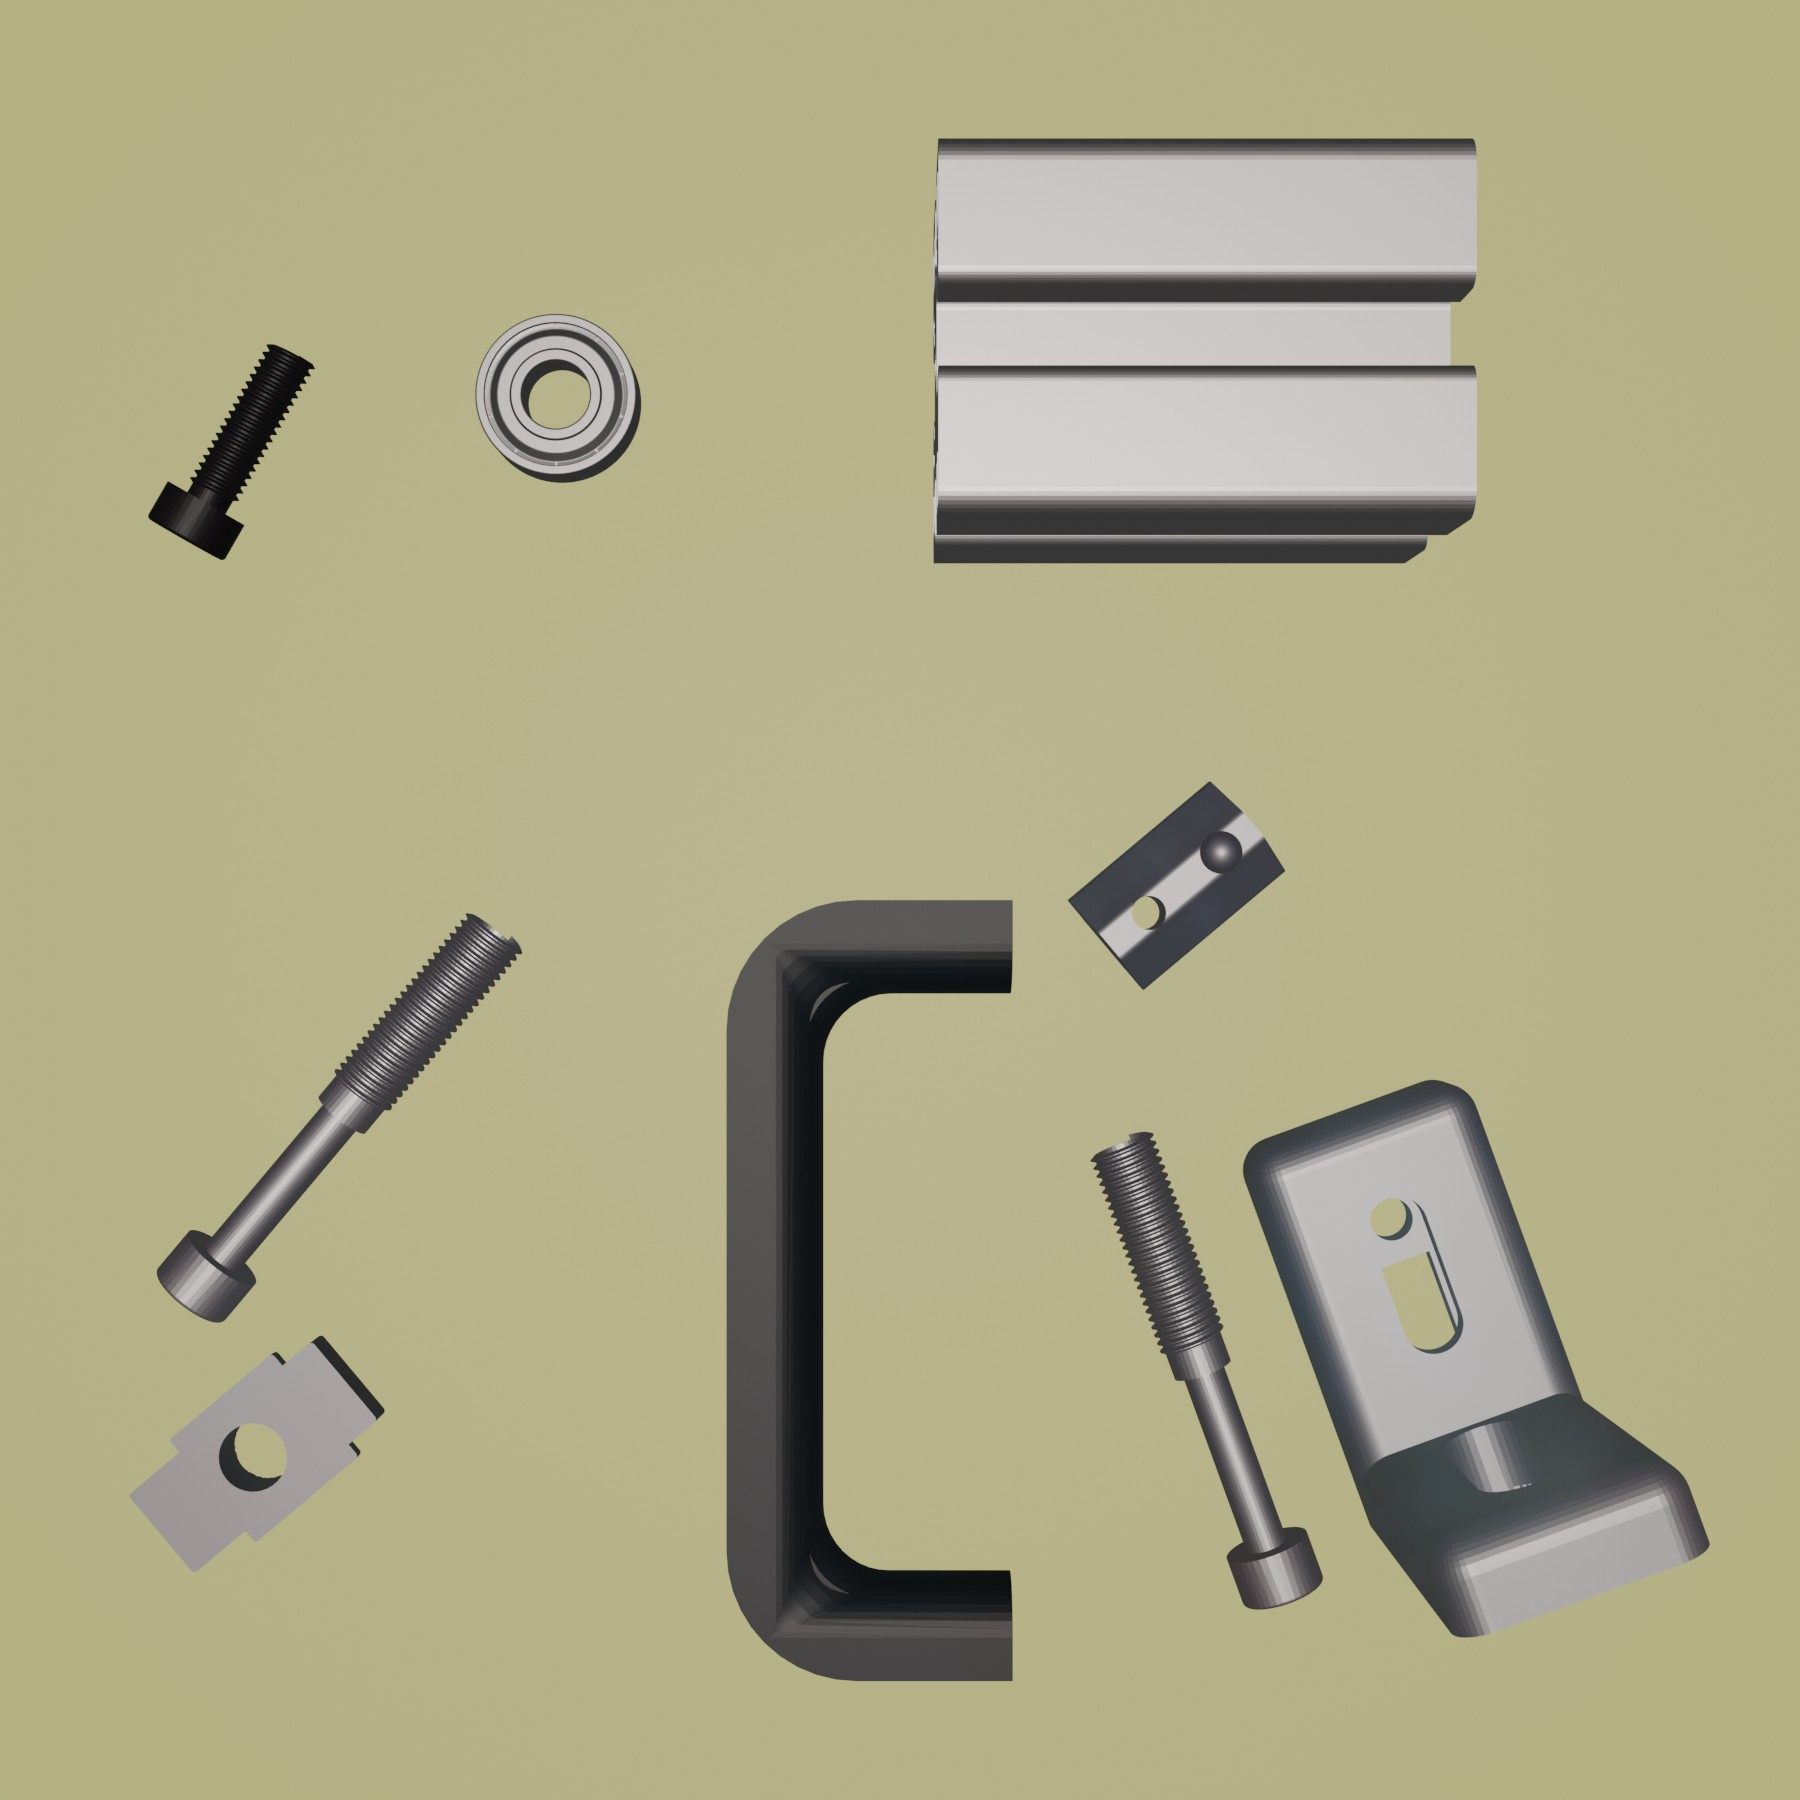Aluminium Extension: (926, 134, 1482, 569)
Ball Bearing: (473, 312, 645, 485)
Multiwinkel: (1240, 1078, 1713, 1642)
Pull Handle: (720, 895, 1017, 1688)
Shoulder Socket Head Cap Screw: (153, 908, 524, 1325), (1088, 1127, 1325, 1612)
Socket Head Cap Screw: (147, 341, 316, 564)
T Nut Square: (127, 1327, 387, 1573)
T Spring Nut: (1066, 780, 1289, 992)
